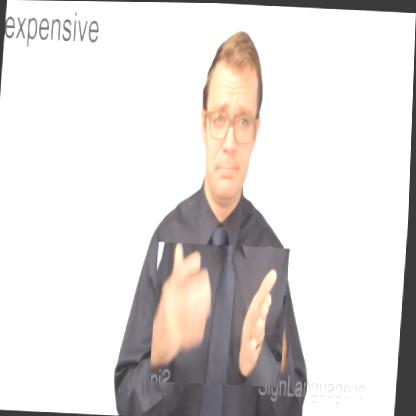Expensive: (152, 241, 292, 387)
